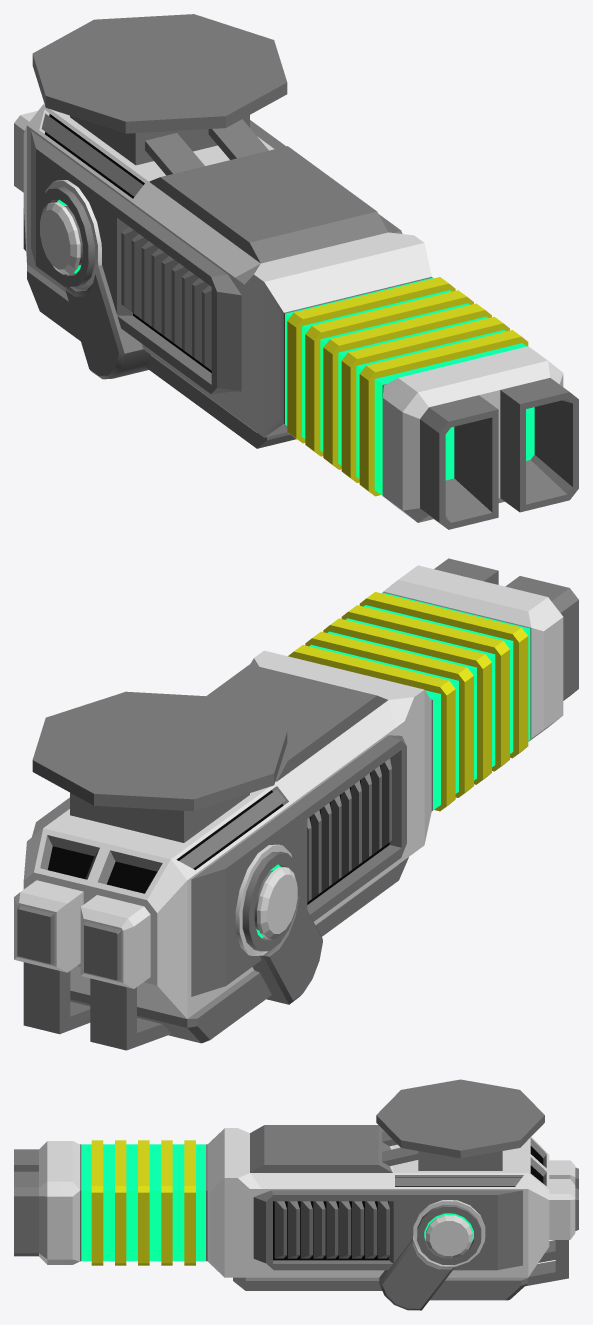
The model's file is 1_PlasmaRifle.fbx.
3 renders of one model, top to bottom at view 1: azimuth 30°, elevation 25°; view 2: azimuth 150°, elevation 25°; view 3: azimuth 270°, elevation 25°, orthographic. The views are drawn at different scales.
Visible parts, largest first — view 1: MainBody, Mount, Detail; view 2: MainBody, Mount, Detail; view 3: MainBody, Mount, Detail.
Part boxes in pixels (left/top/right/bottom): MainBody: left=14, top=104, right=578, bottom=529; Mount: left=32, top=14, right=287, bottom=165; Detail: left=38, top=180, right=150, bottom=379; MainBody: left=14, top=558, right=578, bottom=1050; Mount: left=32, top=691, right=287, bottom=842; Detail: left=235, top=844, right=322, bottom=1004; MainBody: left=14, top=1125, right=578, bottom=1300; Mount: left=376, top=1079, right=544, bottom=1170; Detail: left=379, top=1200, right=485, bottom=1310.
Size of the model in its own units: 400 by 431 by 1340.
